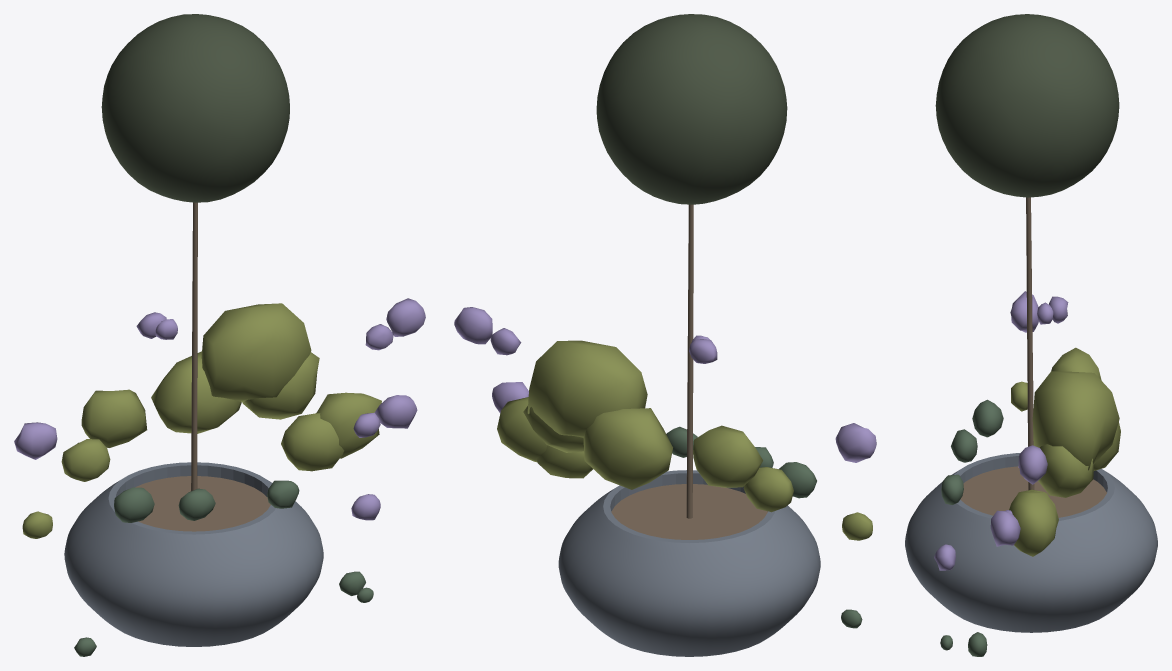
File: NPR_07_2033__MOD__VegetationElements__Topiary__BowlStandard__Var-03__.glb
3 renders of one model, left to right at view 1: azimuth 30°, elevation 25°; view 2: azimuth 150°, elevation 25°; view 3: azimuth 270°, elevation 25°, orthographic. The views are drawn at different scales.
Visible parts, largest first — view 1: NPR_07_2033__MOD__VegetationElements__Topiary__BowlStandard_; view 2: NPR_07_2033__MOD__VegetationElements__Topiary__BowlStandard_; view 3: NPR_07_2033__MOD__VegetationElements__Topiary__BowlStandard_.
Boxes of the visible parts, left/top/right/bottom form: NPR_07_2033__MOD__VegetationElements__Topiary__BowlStandard_: left=14, top=14, right=425, bottom=656; NPR_07_2033__MOD__VegetationElements__Topiary__BowlStandard_: left=454, top=14, right=876, bottom=656; NPR_07_2033__MOD__VegetationElements__Topiary__BowlStandard_: left=905, top=14, right=1157, bottom=656.
Bounding box in the file's own units: 1.21 × 1.65 × 0.66.
